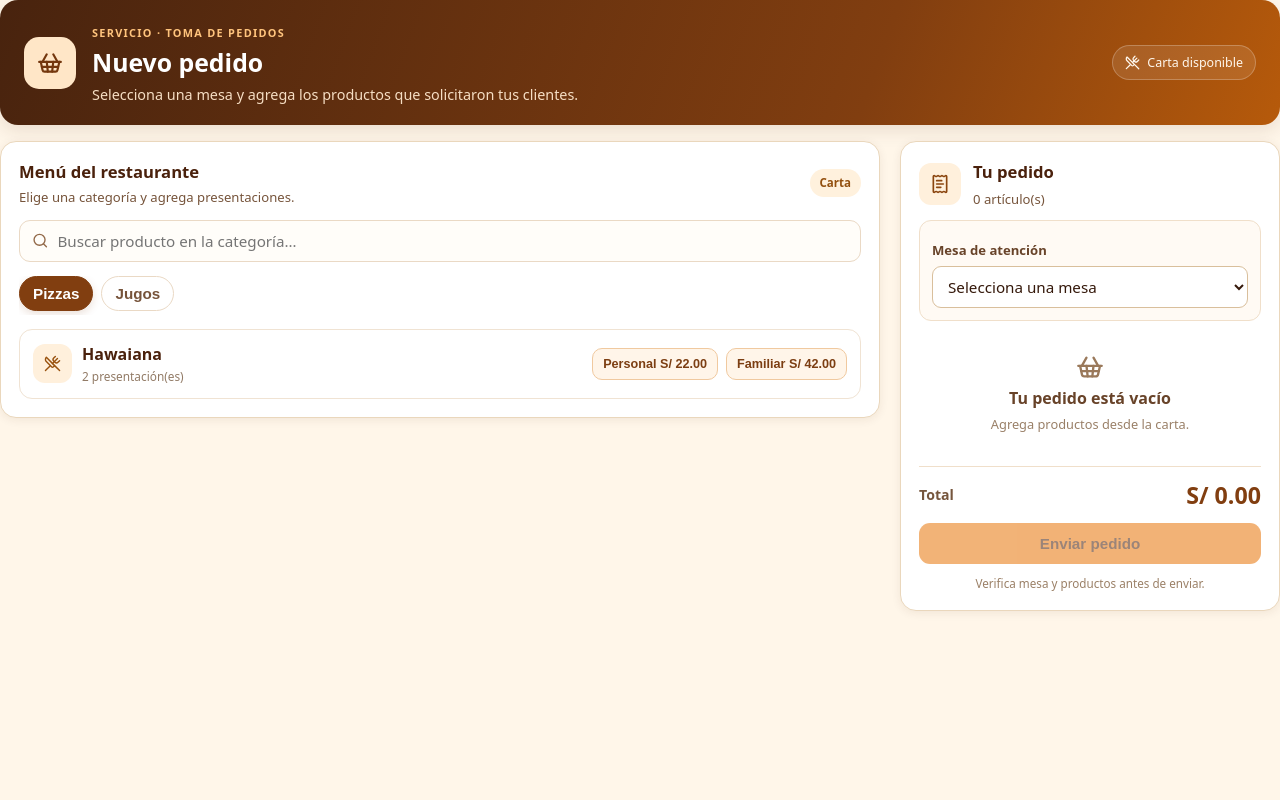
it: Nuevo pedido (HU-007) › calcula el total con los cargos de extra queso y para llevar
Click the button with aria-label "Agregar Hawaiana Personal" at [655, 364], box left=592, top=348, right=718, bottom=380
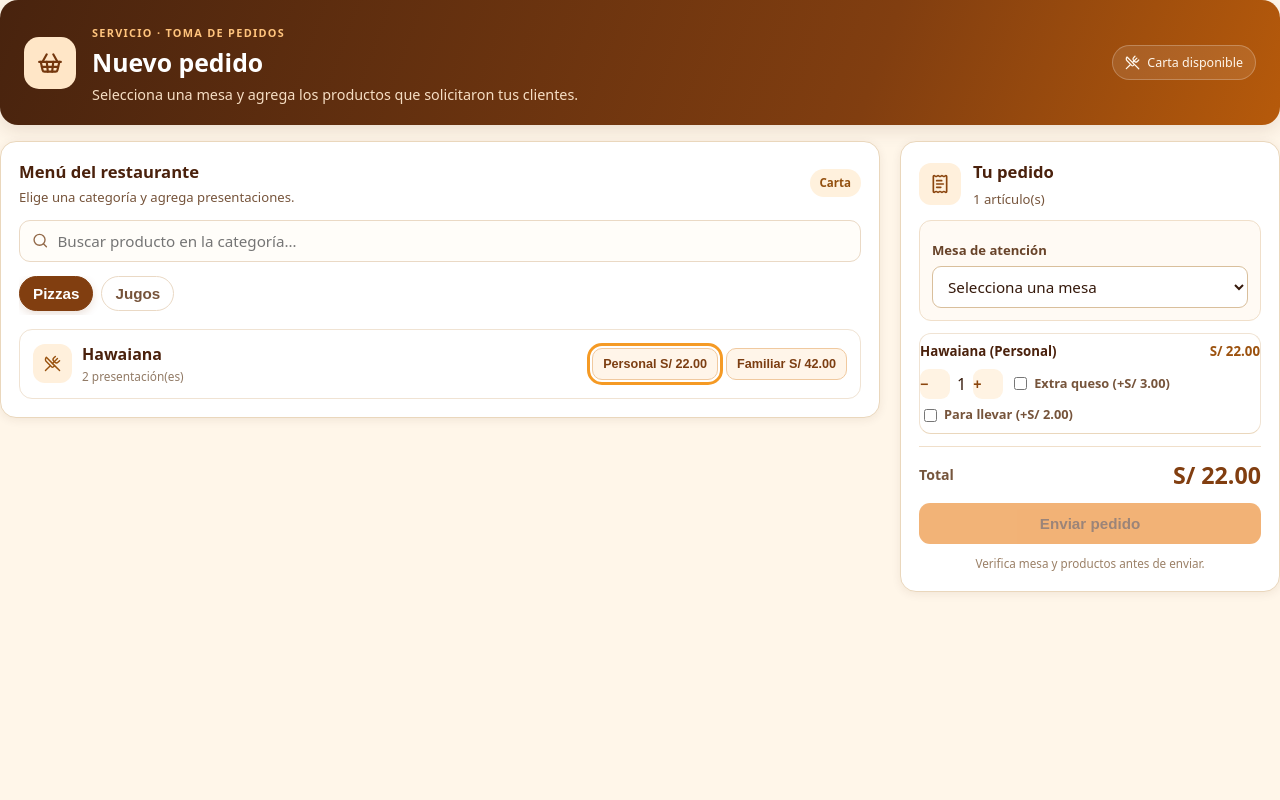
Now the text with test id "total" in the row of "Total" reads "S/ 22.00", box left=1173, top=459, right=1261, bottom=491
Click the button with aria-label "Agregar Hawaiana Familiar" at [786, 364], box left=726, top=348, right=847, bottom=380
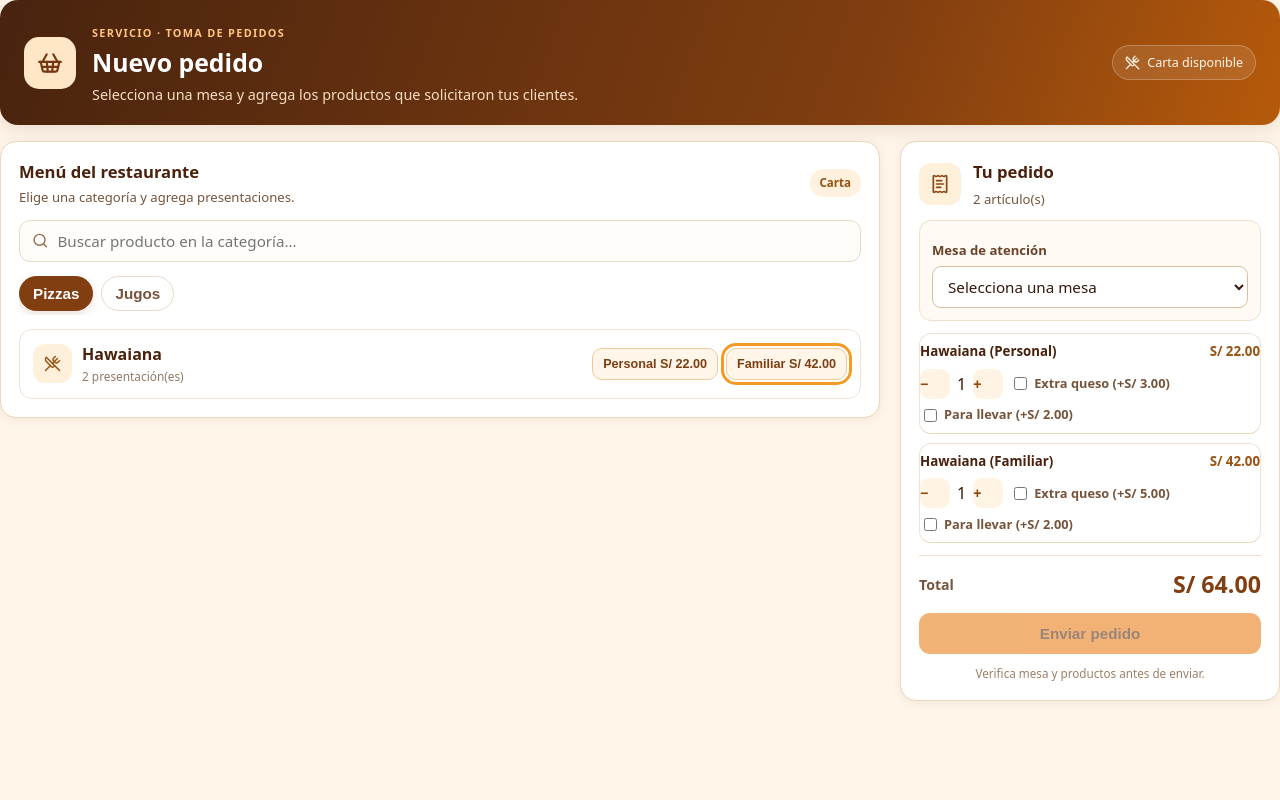
Now the text with test id "total" reads "S/ 64.00", box left=1173, top=568, right=1261, bottom=600
Click the checkbox labelled "Extra queso (+S/ 3.00)" at [1021, 384], box left=1014, top=377, right=1027, bottom=390
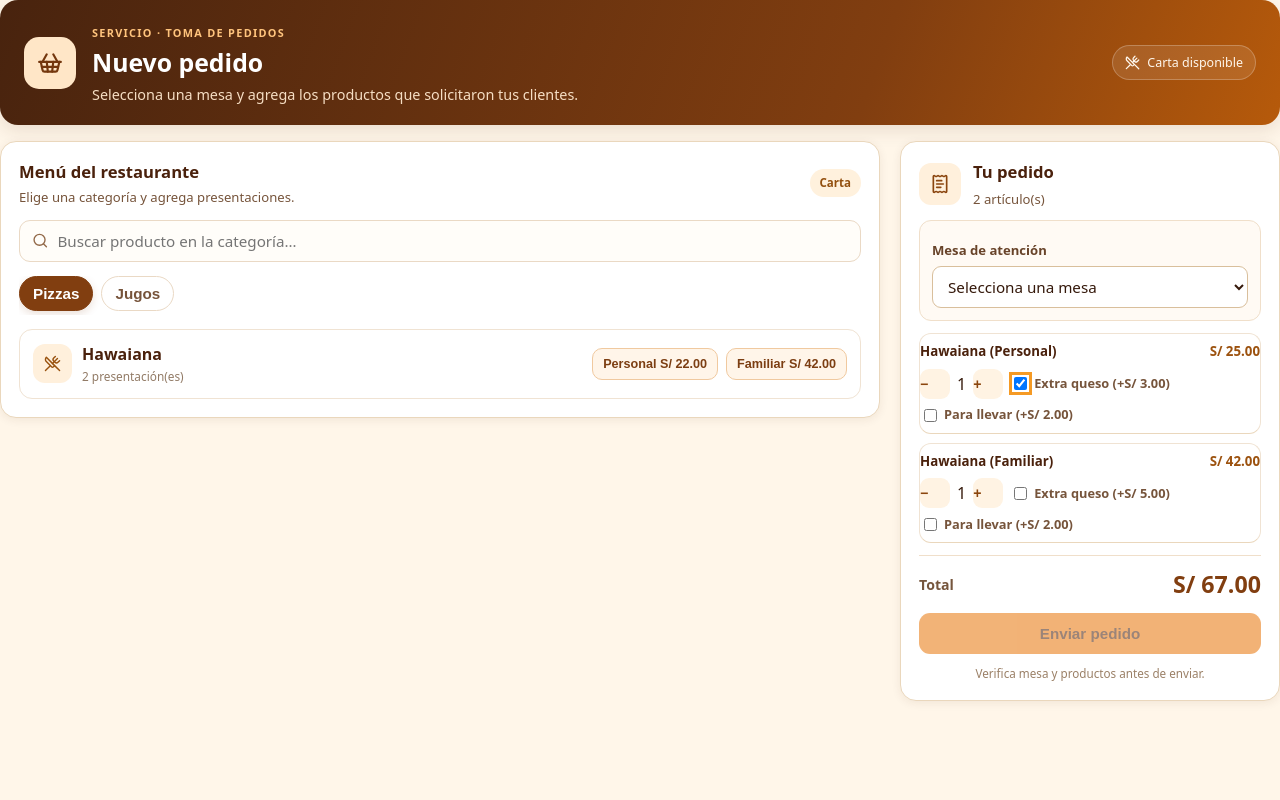
Now the text with test id "total" reads "S/ 67.00", box left=1173, top=568, right=1261, bottom=600
Click the checkbox labelled "Para llevar (+S/ 2.00)" below "S/ 3.00" at [930, 415], box left=924, top=409, right=937, bottom=422
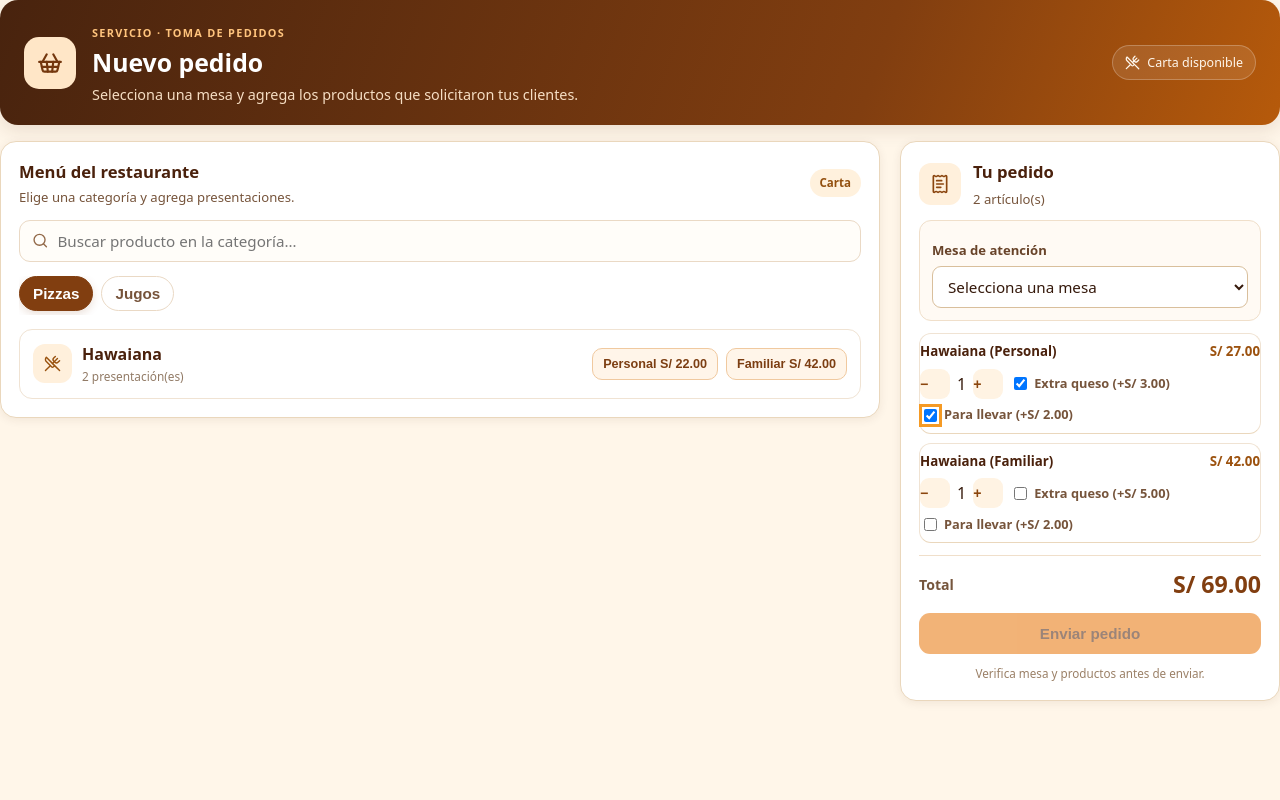
Now the text with test id "total" reads "S/ 69.00", box left=1173, top=568, right=1261, bottom=600
